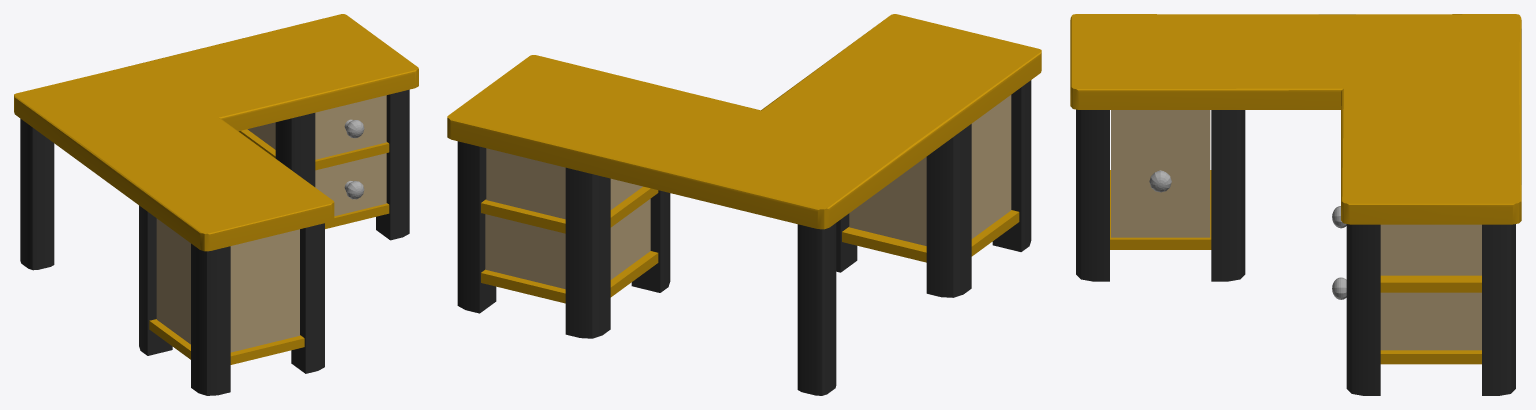
Rendered from LDesk_No3DText.fbx.
3 views of the same model, side by side, from view 1: azimuth 30°, elevation 25°; view 2: azimuth 150°, elevation 25°; view 3: azimuth 270°, elevation 25° (orthographic). The views are drawn at different scales.
Parts seen in each view (by area): view 1: pCube3, pCube18, pCube6, pCube5, pCube7, pCube4, pCube20, pCube24, pCube16, pCube23, pCube9, pCube17 (+3 smaller); view 2: pCube3, pCube10, pCube23, pCube5, pCube8, pCube20, pCube13, pCube25, pCube21, pCube6, pCube17, pCube9 (+5 smaller); view 3: pCube3, pCube19, pCube12, pCube4, pCube22, pCube8, pCube7, pCube27, pCube14, pCube11, pCube17.
Part boxes in pixels (x1,y1,x2,y2): pCube3: [14, 14, 418, 251]; pCube18: [230, 229, 299, 352]; pCube6: [191, 243, 230, 395]; pCube5: [20, 118, 54, 270]; pCube7: [291, 223, 324, 373]; pCube4: [376, 89, 409, 240]; pCube20: [156, 218, 190, 344]; pCube24: [315, 95, 386, 159]; pCube16: [315, 153, 386, 216]; pCube23: [139, 205, 172, 355]; pCube9: [275, 113, 315, 186]; pCube17: [149, 319, 304, 364]; pCube3: [447, 14, 1041, 229]; pCube10: [565, 167, 610, 338]; pCube23: [926, 124, 971, 297]; pCube5: [797, 223, 836, 395]; pCube8: [457, 141, 496, 313]; pCube20: [971, 95, 1011, 238]; pCube13: [485, 214, 565, 289]; pCube25: [486, 148, 565, 219]; pCube21: [849, 157, 926, 245]; pCube6: [992, 80, 1031, 251]; pCube17: [842, 210, 1019, 262]; pCube9: [631, 190, 670, 292]; pCube3: [1070, 14, 1521, 224]; pCube19: [1111, 110, 1210, 237]; pCube12: [1380, 292, 1481, 350]; pCube4: [1346, 224, 1380, 395]; pCube22: [1211, 110, 1245, 281]; pCube8: [1482, 224, 1515, 395]; pCube7: [1076, 109, 1109, 281]; pCube27: [1380, 224, 1481, 275]; pCube14: [1380, 275, 1481, 292]; pCube11: [1380, 350, 1481, 364]; pCube17: [1110, 170, 1211, 249].
Bounding box in the file's own units: 20 × 9.5 × 20.
